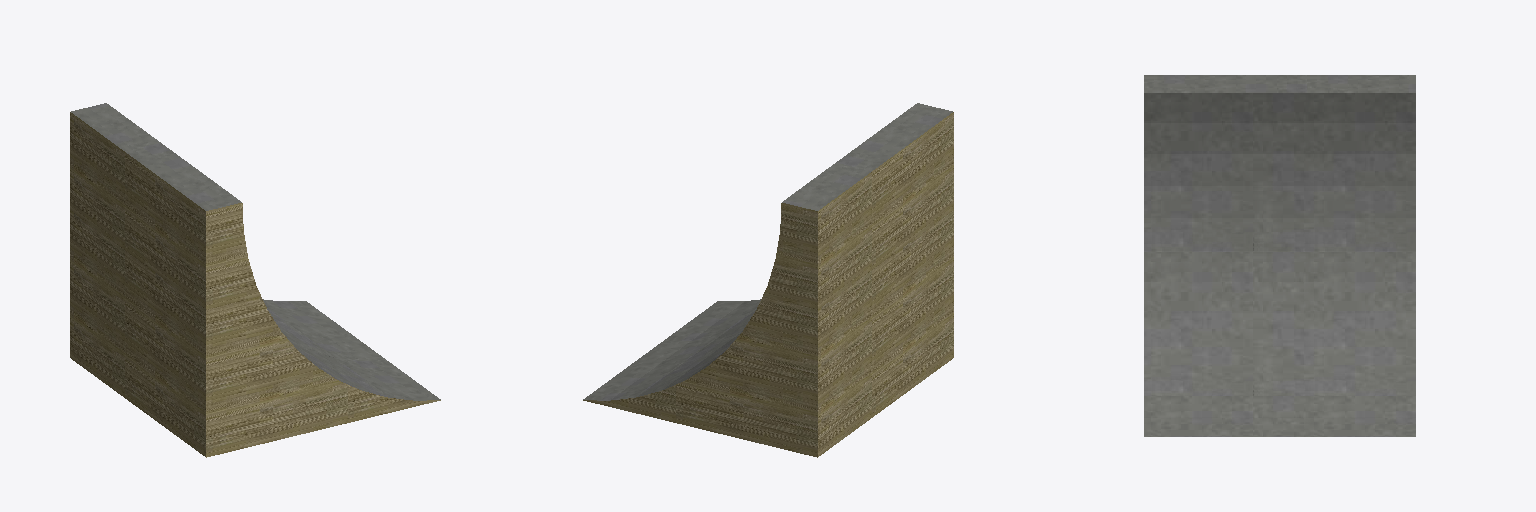
3 renders of one model, left to right at view 1: azimuth 30°, elevation 25°; view 2: azimuth 150°, elevation 25°; view 3: azimuth 270°, elevation 25°, orthographic.
Bounding box in the file's own units: 10 × 10 × 10.
Materials: 4 (2 with a texture image).